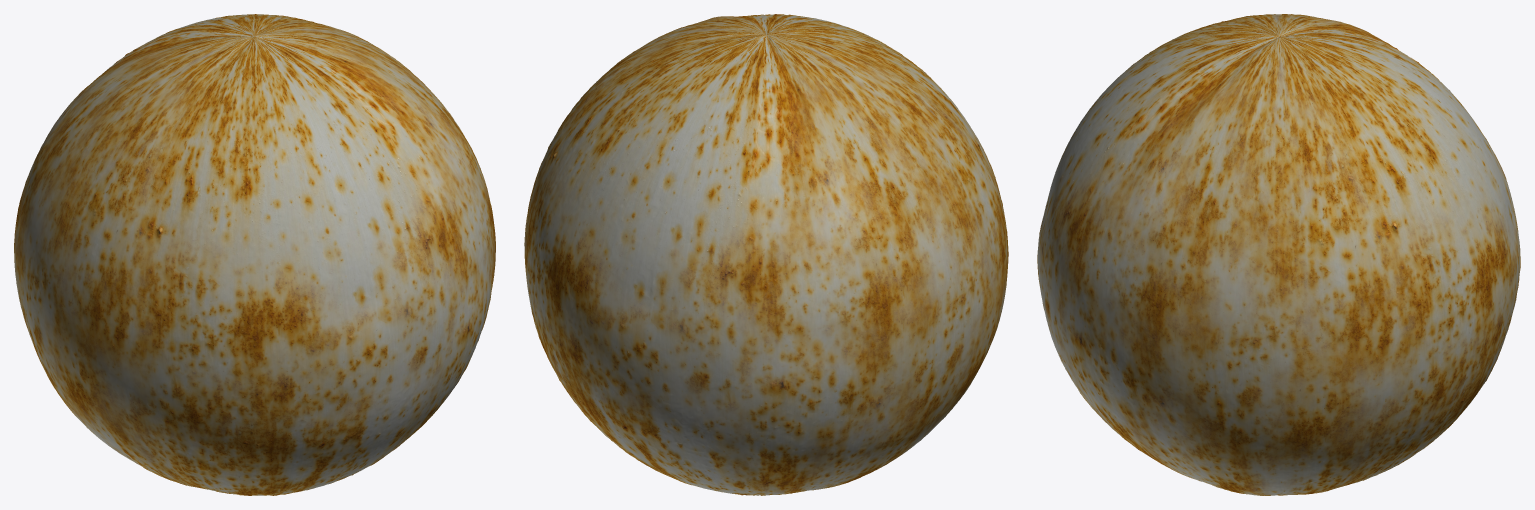
File: rusty_metal_02_2k.gltf
3 views of the same model, side by side, from view 1: azimuth 30°, elevation 25°; view 2: azimuth 150°, elevation 25°; view 3: azimuth 270°, elevation 25° (orthographic).
Visible parts, largest first — view 1: sphere_gltf; view 2: sphere_gltf; view 3: sphere_gltf.
Boxes of the visible parts, x1,y1,x2,y2 form: sphere_gltf: [14, 14, 495, 495]; sphere_gltf: [524, 14, 1008, 495]; sphere_gltf: [1037, 14, 1520, 495].
Bounding box in the file's own units: 1 × 1 × 1.01.
Materials: 1 (1 with a texture image).
